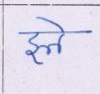o_matra: (52, 18, 66, 54)
